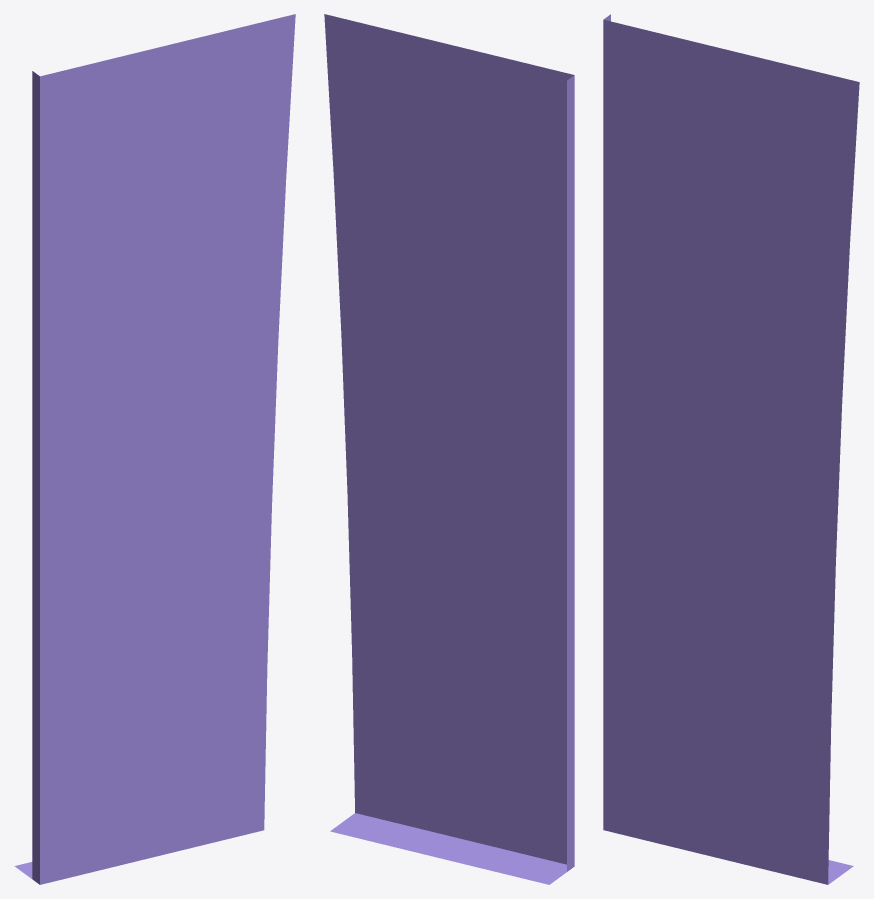
File: puerta_der.FBX
The picture shows the model from 3 angles, left to right: view 1: azimuth 30°, elevation 25°; view 2: azimuth 150°, elevation 25°; view 3: azimuth 330°, elevation 25°; orthographic projection. The views are drawn at different scales.
Visible parts, largest first — view 1: puerta1_low; view 2: puerta1_low; view 3: puerta1_low.
Boxes of the visible parts, <box> form: puerta1_low: <box>14,14,295,884</box>; puerta1_low: <box>324,14,574,884</box>; puerta1_low: <box>603,14,859,884</box>.
Bounding box in the file's own units: 22.77 × 68.8 × 3.97.
